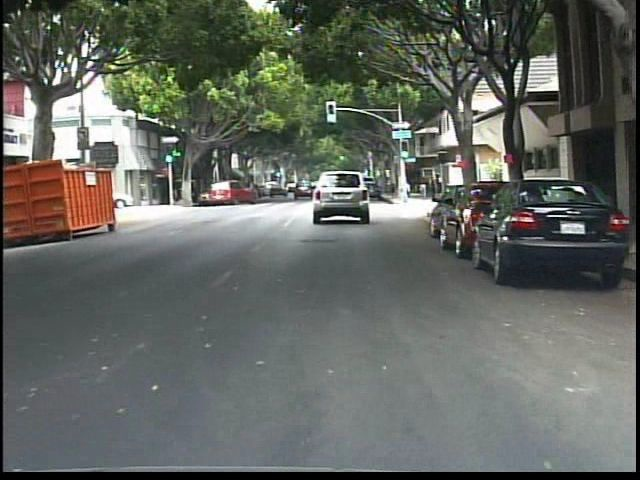person: (418, 172, 431, 201)
